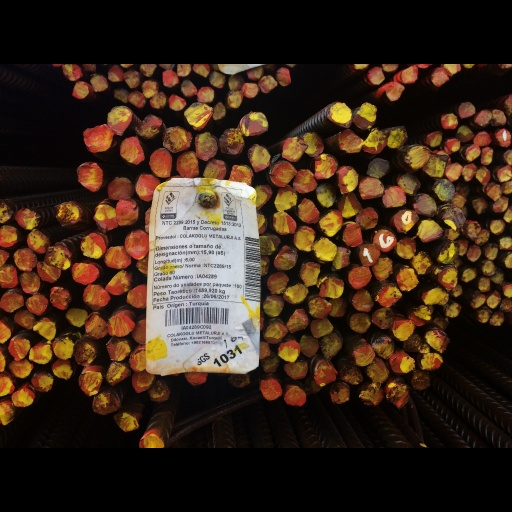dipstick: (81, 78, 114, 117), (322, 49, 354, 89), (235, 61, 269, 98), (116, 96, 148, 134), (105, 54, 134, 94), (121, 222, 150, 262), (183, 50, 215, 86), (189, 90, 220, 127), (112, 179, 141, 218), (45, 240, 74, 278), (77, 130, 103, 171), (160, 84, 193, 116), (76, 224, 106, 259), (335, 90, 365, 125), (49, 360, 79, 394), (149, 114, 173, 156), (77, 404, 104, 441), (280, 428, 311, 460), (33, 260, 64, 292), (90, 437, 123, 467), (105, 148, 135, 181), (281, 96, 308, 132), (425, 351, 452, 387), (25, 218, 52, 254), (246, 106, 272, 143), (313, 114, 339, 151), (82, 294, 113, 325), (106, 330, 135, 363), (83, 331, 110, 366), (416, 204, 442, 240), (394, 268, 420, 304), (312, 393, 338, 429), (72, 264, 101, 296), (73, 367, 97, 405), (273, 241, 299, 276), (46, 296, 72, 331), (391, 336, 417, 371), (301, 88, 327, 123), (136, 148, 161, 184), (375, 294, 404, 325), (317, 197, 345, 229), (16, 190, 43, 223), (392, 192, 419, 225), (364, 392, 390, 426), (104, 276, 130, 310), (388, 424, 411, 462), (372, 220, 401, 250), (294, 181, 322, 212), (347, 270, 375, 301), (358, 425, 386, 456), (270, 130, 297, 162), (405, 108, 432, 140), (228, 132, 255, 164), (354, 190, 380, 223), (104, 396, 129, 430), (9, 428, 38, 457), (270, 196, 298, 226), (388, 384, 416, 414), (409, 318, 435, 350), (287, 324, 310, 360), (293, 139, 318, 172), (259, 418, 284, 451), (94, 188, 118, 222), (342, 208, 364, 245), (306, 312, 335, 340), (260, 345, 289, 373), (54, 184, 81, 214), (177, 118, 200, 153), (147, 418, 172, 450), (127, 288, 149, 324), (314, 158, 337, 192), (366, 82, 387, 119), (114, 463, 139, 494), (394, 230, 418, 262), (443, 188, 467, 220), (8, 363, 31, 396), (301, 262, 322, 298), (418, 383, 446, 410), (12, 246, 37, 276), (312, 232, 337, 262), (357, 52, 380, 84), (424, 296, 451, 323), (105, 368, 132, 395), (307, 336, 334, 363), (318, 285, 345, 312), (358, 239, 383, 268), (413, 172, 438, 201), (106, 243, 131, 272), (382, 162, 406, 192), (1, 301, 25, 331), (19, 276, 43, 306), (435, 238, 457, 270), (345, 331, 371, 358), (30, 412, 56, 439), (423, 123, 448, 151), (33, 339, 57, 368), (26, 306, 48, 337), (27, 374, 53, 400), (360, 151, 385, 178), (398, 146, 422, 174), (353, 372, 375, 402), (14, 327, 36, 357), (264, 310, 286, 340), (410, 251, 432, 281), (133, 492, 166, 512), (277, 369, 301, 396), (69, 23, 91, 52), (435, 273, 457, 302), (367, 126, 392, 151), (0, 445, 16, 484), (300, 362, 322, 390), (435, 152, 456, 181), (322, 360, 342, 390), (0, 270, 20, 300), (283, 396, 308, 420), (10, 392, 35, 416), (204, 126, 226, 153), (129, 377, 148, 408), (330, 427, 351, 455), (388, 82, 409, 110), (66, 325, 89, 349), (148, 34, 169, 60), (385, 24, 406, 50), (455, 50, 478, 73), (443, 131, 464, 156), (275, 4, 295, 30), (0, 414, 16, 446), (438, 64, 460, 87), (410, 412, 431, 436), (432, 4, 452, 29), (1, 213, 16, 246), (168, 37, 187, 63), (473, 137, 492, 162), (177, 22, 199, 43), (400, 2, 420, 24), (260, 14, 278, 38), (368, 3, 386, 27), (462, 108, 483, 128), (122, 10, 141, 32), (106, 2, 125, 24), (210, 8, 227, 32), (445, 98, 463, 120), (474, 59, 492, 81), (197, 29, 215, 51), (497, 84, 511, 112), (485, 159, 502, 182), (475, 86, 491, 110), (492, 56, 506, 83), (489, 330, 506, 352), (467, 208, 481, 234), (90, 16, 108, 36), (467, 306, 485, 326), (485, 305, 502, 326), (241, 24, 257, 46), (444, 317, 460, 339), (0, 343, 13, 370), (472, 178, 487, 201), (227, 37, 245, 56), (127, 40, 146, 58), (467, 241, 483, 262), (161, 10, 178, 29), (489, 207, 505, 227), (493, 175, 507, 197), (427, 91, 443, 110), (462, 272, 478, 291), (475, 283, 491, 302), (482, 264, 497, 284), (476, 220, 491, 240), (476, 325, 490, 346), (464, 132, 476, 156), (2, 186, 12, 210), (485, 243, 498, 261), (498, 294, 512, 310), (0, 380, 7, 409), (500, 232, 512, 246)
